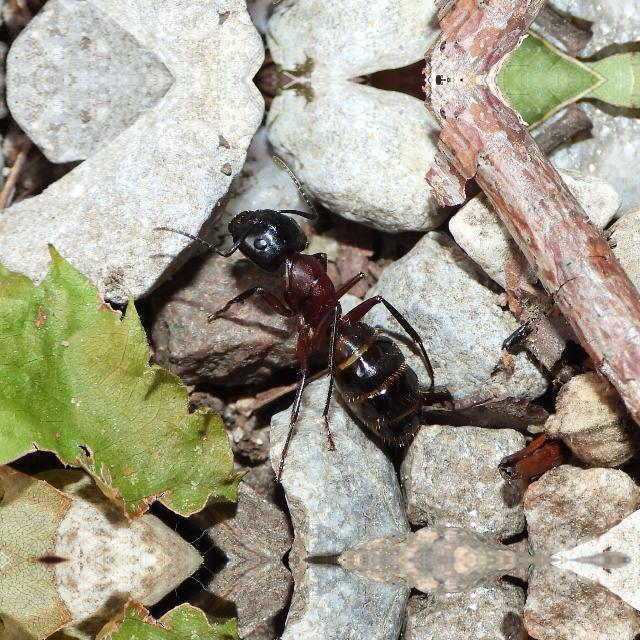Camponotus: (178, 176, 456, 440)
